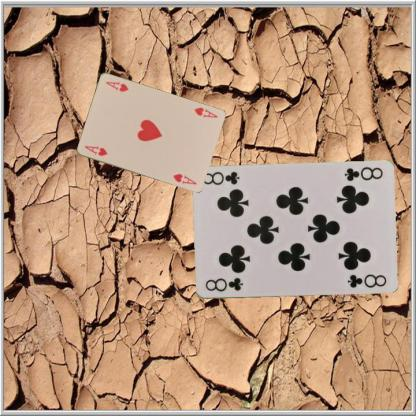8c: (341, 164, 384, 183), (203, 275, 245, 294)
Ah: (82, 143, 109, 157), (192, 105, 219, 119)
